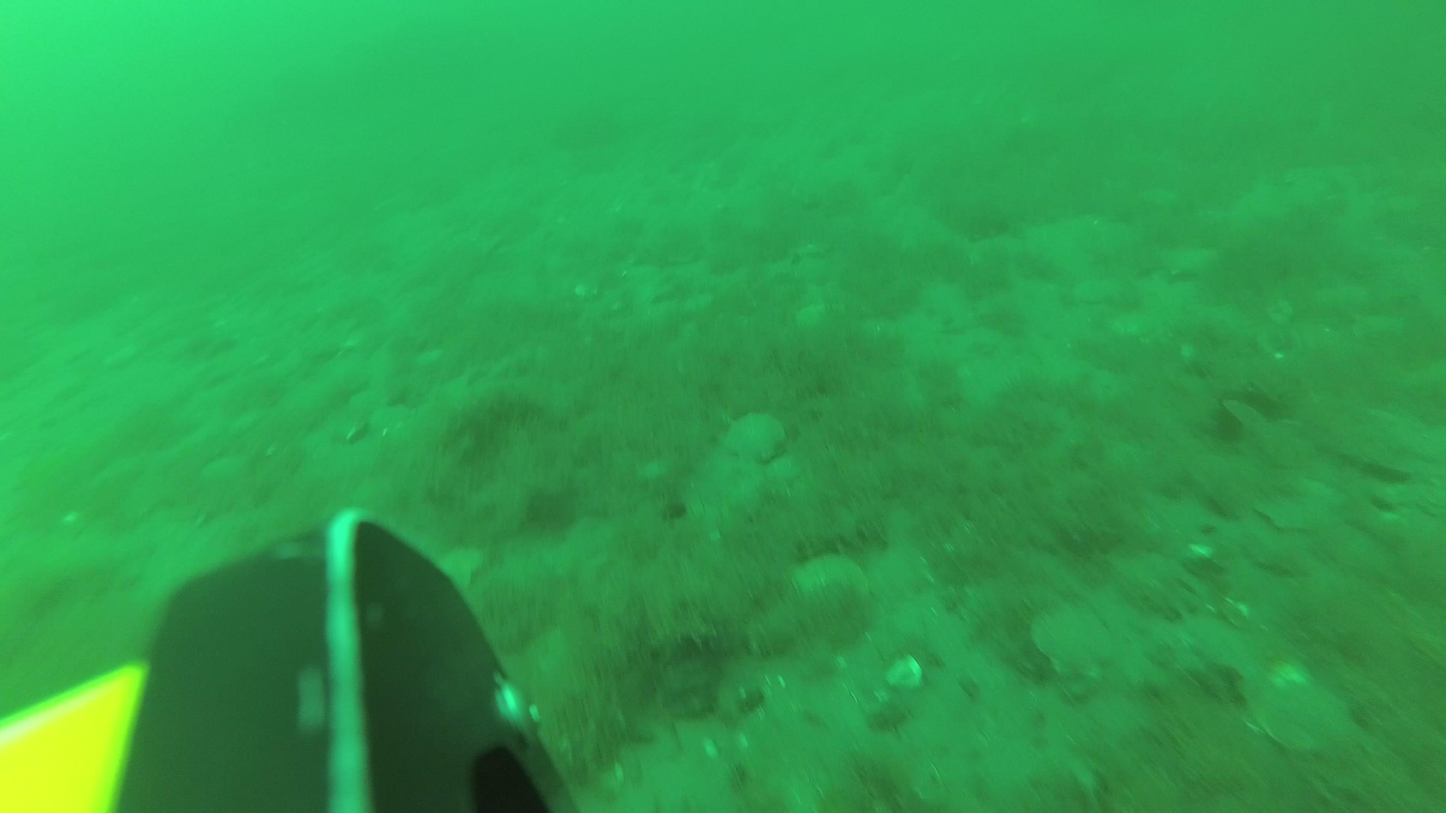scallop: (1252, 679, 1364, 760), (1029, 608, 1119, 686), (792, 550, 875, 617), (722, 406, 793, 470), (1252, 485, 1322, 533), (428, 543, 486, 594)
